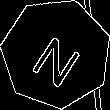N_NE: (25, 21, 87, 86)
